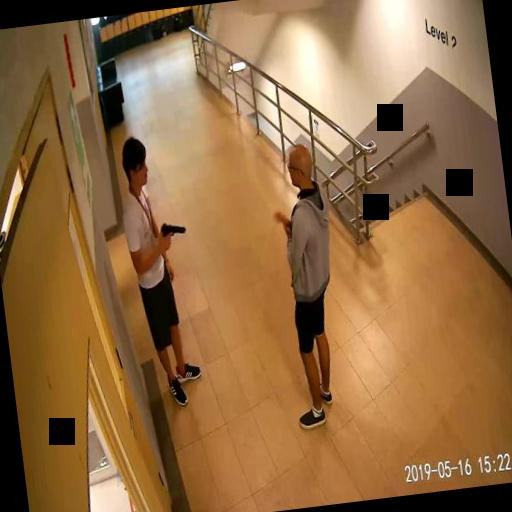Handgun: (159, 218, 186, 250)
